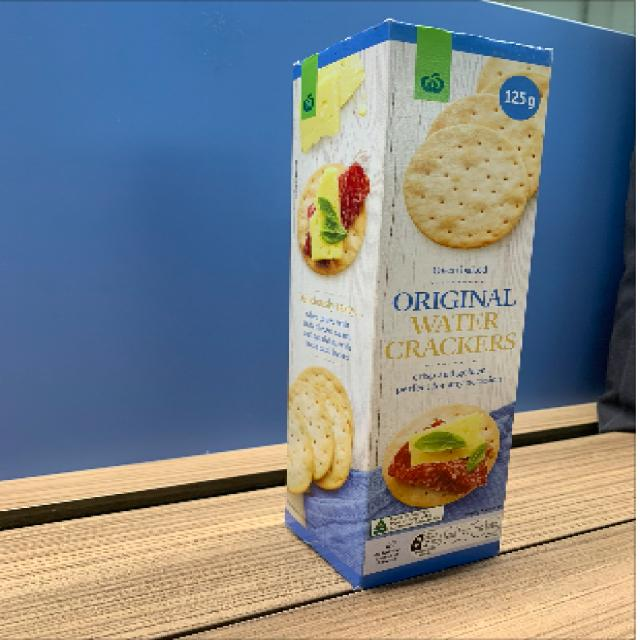object_name: (299, 27, 502, 562)
